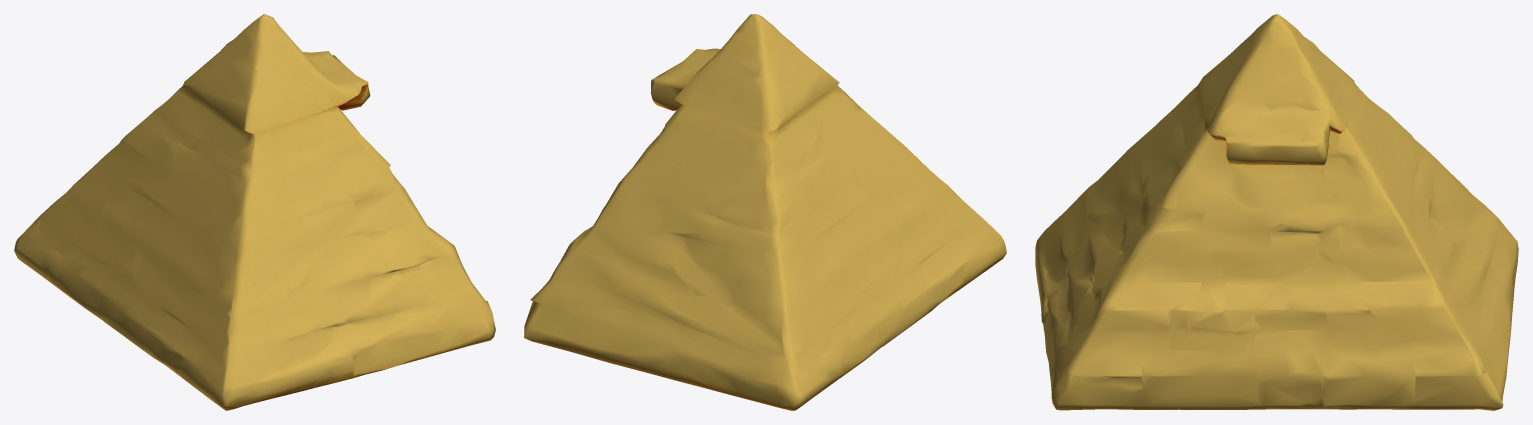
Rendered from great-pyramid.glb.
3 renders of one model, left to right at view 1: azimuth 30°, elevation 25°; view 2: azimuth 150°, elevation 25°; view 3: azimuth 270°, elevation 25°, orthographic. The views are drawn at different scales.
Parts seen in each view (by area): view 1: tripo_node_ec960376-d495-497e-bb67-49bf39a29f06; view 2: tripo_node_ec960376-d495-497e-bb67-49bf39a29f06; view 3: tripo_node_ec960376-d495-497e-bb67-49bf39a29f06.
Part boxes in pixels (bbox=[...]): tripo_node_ec960376-d495-497e-bb67-49bf39a29f06: bbox=[14, 14, 495, 410]; tripo_node_ec960376-d495-497e-bb67-49bf39a29f06: bbox=[524, 14, 1006, 410]; tripo_node_ec960376-d495-497e-bb67-49bf39a29f06: bbox=[1035, 14, 1518, 410].
Size of the model in its own units: 0.768 by 0.741 by 1.
1 material, 1 textured.
